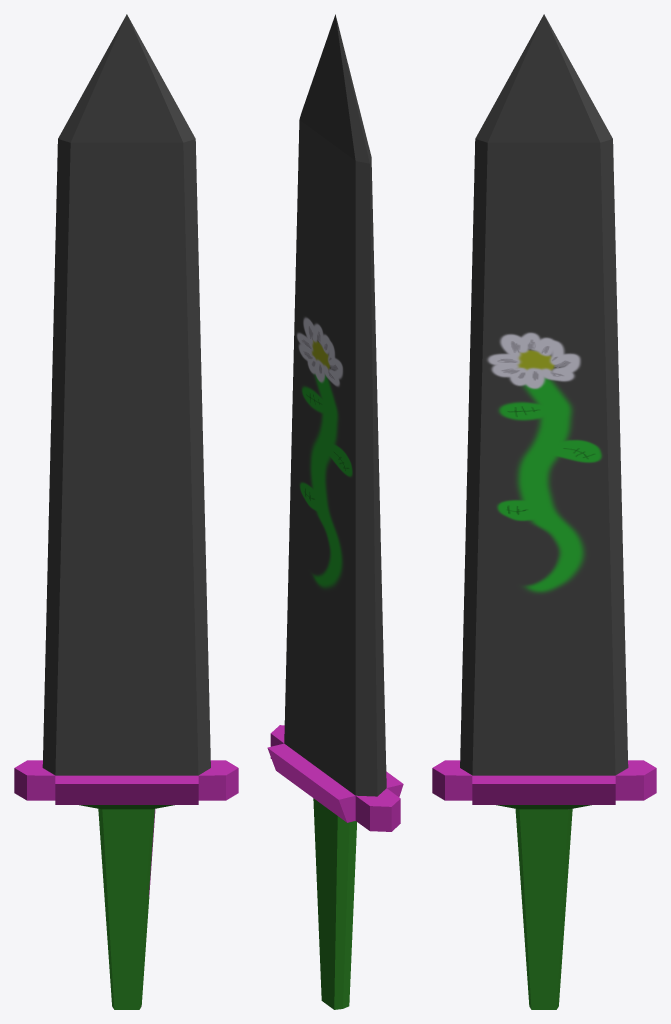
Rendered from swordgameJam.fbx.
The picture shows the model from 3 angles, left to right: view 1: azimuth 90°, elevation 25°; view 2: azimuth 210°, elevation 25°; view 3: azimuth 270°, elevation 25°; orthographic projection.
Parts seen in each view (by area): view 1: Cube; view 2: Cube; view 3: Cube.
Part boxes in pixels (<box>): Cube: <box>14,14,238,1009</box>; Cube: <box>267,14,403,1009</box>; Cube: <box>432,14,656,1009</box>.
Bounding box in the file's own units: 26.74 × 389 × 79.68.
1 material, 1 textured.
